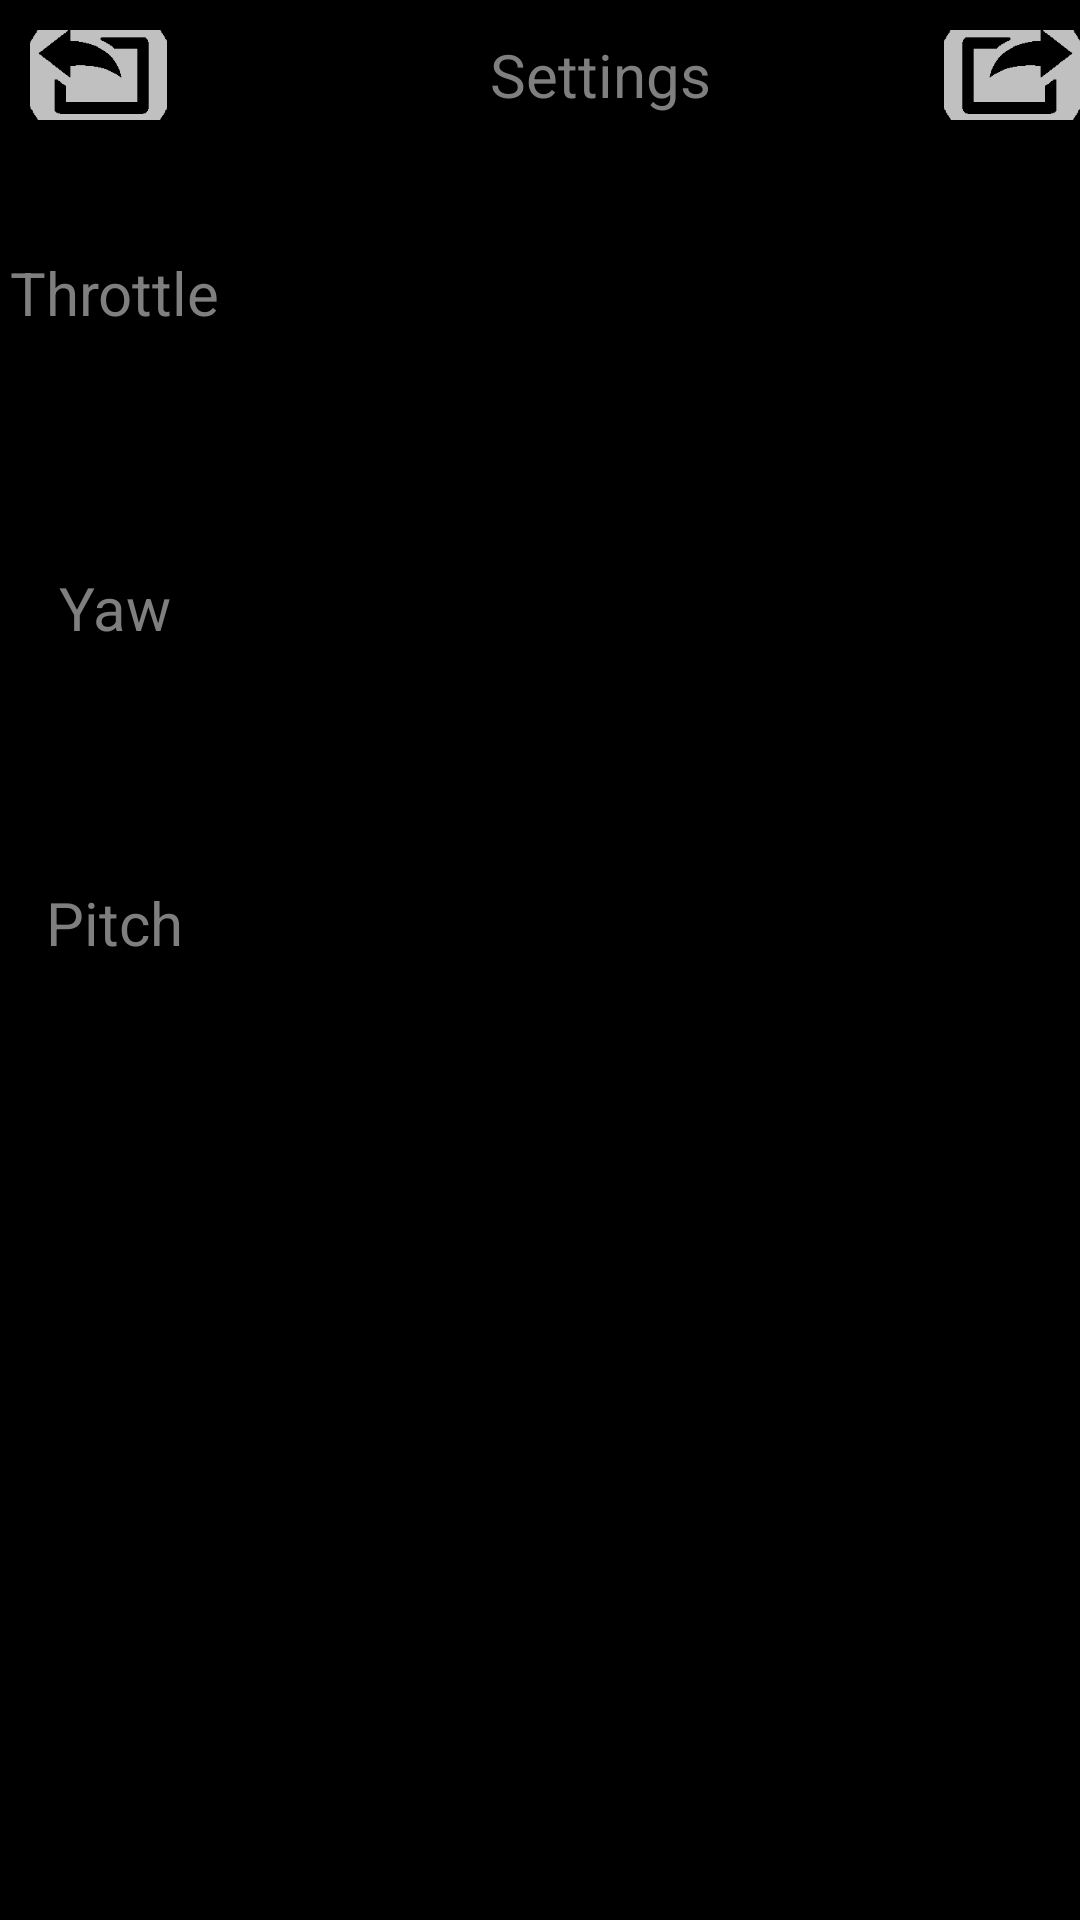

Screen size 1080px×1920px. Icon name, then its center in pixels as point (x, y):
unselect next: point (1012, 75)
unselect prev: point (98, 75)
